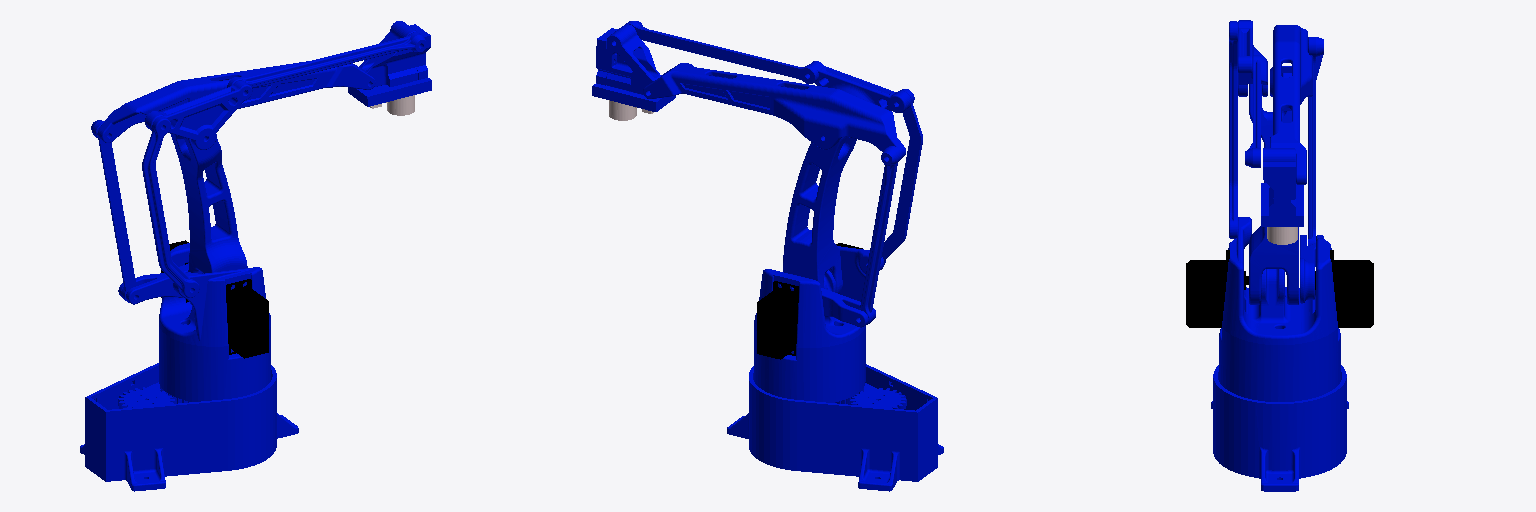
The robot description file, URDF, robot "mk2":
<?xml version="1.0" encoding="utf-8"?>
<!-- This URDF was automatically created by SolidWorks to URDF Exporter! Originally created by [author] ([email redacted]) 
     Commit Version: 1.6.0-1-g15f4949  Build Version: 1.6.7594.29634
     For more information, please see http://wiki.ros.org/sw_urdf_exporter -->
<robot
  name="mk2">
  <link
    name="footprint_link">
    <inertial>
      <origin
        xyz="-0.027264 -8.2103E-05 0.029424"
        rpy="0 0 0" />
      <mass
        value="0.20065" />
      <inertia
        ixx="0.00012071"
        ixy="-6.3675E-08"
        ixz="-9.1455E-06"
        iyy="0.00026369"
        iyz="-1.5044E-09"
        izz="0.00033032" />
    </inertial>
    <visual>
      <origin
        xyz="0 0 0"
        rpy="0 0 0" />
      <geometry>
        <mesh
          filename="package://mk2/meshes/footprint_link.STL" />
      </geometry>
      <material
        name="">
        <color
          rgba="0.0 0.1 0.9 1" />
      </material>
    </visual>
    <collision>
      <origin
        xyz="0 0 0"
        rpy="0 0 0" />
      <geometry>
        <mesh
          filename="package://mk2/meshes/footprint_link.STL" />
      </geometry>
    </collision>
  </link>
  <link
    name="base_link">
    <inertial>
      <origin
        xyz="-0.00045062 -0.00056704 0.032328"
        rpy="0 0 0" />
      <mass
        value="0.2946" />
      <inertia
        ixx="0.00026764"
        ixy="-2.8396E-06"
        ixz="7.0796E-06"
        iyy="0.00026231"
        iyz="7.6901E-06"
        izz="0.00023501" />
    </inertial>
    <visual>
      <origin
        xyz="0 0 0"
        rpy="0 0 0" />
      <geometry>
        <mesh
          filename="package://mk2/meshes/base_link.STL" />
      </geometry>
      <material
        name="">
        <color
          rgba="0.0 0.1 0.9 1" />
      </material>
    </visual>
    <collision>
      <origin
        xyz="0 0 0"
        rpy="0 0 0" />
      <geometry>
        <mesh
          filename="package://mk2/meshes/base_link.STL" />
      </geometry>
    </collision>
  </link>
  <joint
    name="base"
    type="continuous">
    <origin
      xyz="0 0 0.051"
      rpy="0 0 0" />
    <parent
      link="footprint_link" />
    <child
      link="base_link" />
    <axis
      xyz="0 0 -1" />
  </joint>
  <link
    name="L1_JT_link">
    <inertial>
      <origin
        xyz="-1.0045E-14 -0.0095522 0.003"
        rpy="0 0 0" />
      <mass
        value="0.06105" />
      <inertia
        ixx="1.5625E-05"
        ixy="9.6292E-23"
        ixz="-6.8219E-21"
        iyy="9.0259E-06"
        iyz="4.0394E-22"
        izz="1.0544E-05" />
    </inertial>
    <visual>
      <origin
        xyz="0 0 0"
        rpy="0 0 0" />
      <geometry>
        <mesh
          filename="package://mk2/meshes/L1_JT_link.STL" />
      </geometry>
      <material
        name="">
        <color
          rgba="0 0 0 1" />
      </material>
    </visual>
    <collision>
      <origin
        xyz="0 0 0"
        rpy="0 0 0" />
      <geometry>
        <mesh
          filename="package://mk2/meshes/L1_JT_link.STL" />
      </geometry>
    </collision>
  </link>
  <joint
    name="L1_JT"
    type="fixed">
    <origin
      xyz="0 0.00299999999999998 0.0732499999999999"
      rpy="1.5707963267949 0 0" />
    <parent
      link="base_link" />
    <child
      link="L1_JT_link" />
    <axis
      xyz="0 0 0" />
  </joint>
  <link
    name="L1_link">
    <inertial>
      <origin
        xyz="-0.0055614 0.057974 0.0060613"
        rpy="0 0 0" />
      <mass
        value="0.071815" />
      <inertia
        ixx="0.00015118"
        ixy="2.3184E-05"
        ixz="1.8014E-07"
        iyy="1.6103E-05"
        iyz="8.6942E-07"
        izz="0.00015336" />
    </inertial>
    <visual>
      <origin
        xyz="0 0 0"
        rpy="0 0 0" />
      <geometry>
        <mesh
          filename="package://mk2/meshes/L1_link.STL" />
      </geometry>
      <material
        name="">
        <color
          rgba="0.0 0.1 0.9 1" />
      </material>
    </visual>
    <collision>
      <origin
        xyz="0 0 0"
        rpy="0 0 0" />
      <geometry>
        <mesh
          filename="package://mk2/meshes/L1_link.STL" />
      </geometry>
    </collision>
  </link>
  <joint
    name="L1"
    type="continuous">
    <origin
      xyz="0 0 -0.00149999999999991"
      rpy="0 0 0" />
    <parent
      link="L1_JT_link" />
    <child
      link="L1_link" />
    <axis
      xyz="0 0 -1" />
  </joint>
  <link
    name="L2_JT_link">
    <inertial>
      <origin
        xyz="-0.075 0.017741 -0.0030613"
        rpy="0 0 0" />
      <mass
        value="0.071815" />
      <inertia
        ixx="1.6103E-05"
        ixy="2.3184E-05"
        ixz="-8.6942E-07"
        iyy="0.00015118"
        iyz="-1.8014E-07"
        izz="0.00015336" />
    </inertial>
    <visual>
      <origin
        xyz="0 0 0"
        rpy="0 0 0" />
      <geometry>
        <mesh
          filename="package://mk2/meshes/L2_JT_link.STL" />
      </geometry>
      <material
        name="">
        <color
          rgba="0.0 0.1 0.9 1" />
      </material>
    </visual>
    <collision>
      <origin
        xyz="0 0 0"
        rpy="0 0 0" />
      <geometry>
        <mesh
          filename="package://mk2/meshes/L2_JT_link.STL" />
      </geometry>
    </collision>
  </link>
  <joint
    name="L2_JT"
    type="fixed">
    <origin
      xyz="-0.0233024298564636 0.132973669434157 0.003"
      rpy="-3.14159265358979 0 1.5707963267949" />
    <parent
      link="L1_link" />
    <child
      link="L2_JT_link" />
    <axis
      xyz="0 0 0" />
  </joint>
  <link
    name="L2_link">
    <inertial>
      <origin
        xyz="0.012441 0.037081 0.013216"
        rpy="0 0 0" />
      <mass
        value="0.038874" />
      <inertia
        ixx="0.00013873"
        ixy="6.2071E-07"
        ixz="4.7085E-07"
        iyy="5.5345E-06"
        iyz="4.4212E-06"
        izz="0.00013901" />
    </inertial>
    <visual>
      <origin
        xyz="0 0 0"
        rpy="0 0 0" />
      <geometry>
        <mesh
          filename="package://mk2/meshes/L2_link.STL" />
      </geometry>
      <material
        name="">
        <color
          rgba="0.0 0.1 0.9 1" />
      </material>
    </visual>
    <collision>
      <origin
        xyz="0 0 0"
        rpy="0 0 0" />
      <geometry>
        <mesh
          filename="package://mk2/meshes/L2_link.STL" />
      </geometry>
    </collision>
  </link>
  <joint
    name="L2"
    type="continuous">
    <origin
      xyz="0 0 -0.00799999999999998"
      rpy="0 0 0" />
    <parent
      link="L2_JT_link" />
    <child
      link="L2_link" />
    <axis
      xyz="0 0 -1" />
  </joint>
  <link
    name="L3_JT_link">
    <inertial>
      <origin
        xyz="-0.10992 0.012441 0.0037842"
        rpy="0 0 0" />
      <mass
        value="0.038874" />
      <inertia
        ixx="5.5345E-06"
        ixy="6.2071E-07"
        ixz="-4.4212E-06"
        iyy="0.00013873"
        iyz="-4.7085E-07"
        izz="0.00013901" />
    </inertial>
    <visual>
      <origin
        xyz="0 0 0"
        rpy="0 0 0" />
      <geometry>
        <mesh
          filename="package://mk2/meshes/L3_JT_link.STL" />
      </geometry>
      <material
        name="">
        <color
          rgba="0.0 0.1 0.9 1" />
      </material>
    </visual>
    <collision>
      <origin
        xyz="0 0 0"
        rpy="0 0 0" />
      <geometry>
        <mesh
          filename="package://mk2/meshes/L3_JT_link.STL" />
      </geometry>
    </collision>
  </link>
  <joint
    name="L3_JT_joint"
    type="fixed">
    <origin
      xyz="0 0.147 0.017"
      rpy="-3.14159265358979 0 1.5707963267949" />
    <parent
      link="L2_link" />
    <child
      link="L3_JT_link" />
    <axis
      xyz="0 0 0" />
  </joint>
  <link
    name="L3_link">
    <inertial>
      <origin
        xyz="0.025333 0.0029402 -0.0030211"
        rpy="0 0 0" />
      <mass
        value="0.031957" />
      <inertia
        ixx="6.0748E-06"
        ixy="-2.7192E-06"
        ixz="-3.0049E-07"
        iyy="7.9721E-06"
        iyz="-3.9764E-07"
        izz="1.1212E-05" />
    </inertial>
    <visual>
      <origin
        xyz="0 0 0"
        rpy="0 0 0" />
      <geometry>
        <mesh
          filename="package://mk2/meshes/L3_link.STL" />
      </geometry>
      <material
        name="">
        <color
          rgba="0.0 0.1 0.9 1" />
      </material>
    </visual>
    <collision>
      <origin
        xyz="0 0 0"
        rpy="0 0 0" />
      <geometry>
        <mesh
          filename="package://mk2/meshes/L3_link.STL" />
      </geometry>
    </collision>
  </link>
  <joint
    name="L3_joint"
    type="continuous">
    <origin
      xyz="0 0 0.0119999999999995"
      rpy="0 0 0" />
    <parent
      link="L3_JT_link" />
    <child
      link="L3_link" />
    <axis
      xyz="0 0 -1" />
  </joint>
  <link
    name="L4_link">
    <inertial>
      <origin
        xyz="-0.0045763 0.0085211 0.003018"
        rpy="0 0 0" />
      <mass
        value="0.031957" />
      <inertia
        ixx="6.0748E-06"
        ixy="3.0049E-07"
        ixz="-2.7192E-06"
        iyy="1.1212E-05"
        iyz="3.9764E-07"
        izz="7.9721E-06" />
    </inertial>
    <visual>
      <origin
        xyz="0 0 0"
        rpy="0 0 0" />
      <geometry>
        <mesh
          filename="package://mk2/meshes/L4_link.STL" />
      </geometry>
      <material
        name="">
        <color
          rgba="0.0 0.1 0.9 1" />
      </material>
    </visual>
    <collision>
      <origin
        xyz="0 0 0"
        rpy="0 0 0" />
      <geometry>
        <mesh
          filename="package://mk2/meshes/L4_link.STL" />
      </geometry>
    </collision>
  </link>
  <joint
    name="L4_joint"
    type="fixed">
    <origin
      xyz="0.029908878399012 -7.78200046105404E-05 0.00550000000000002"
      rpy="-1.5707963267949 0 0" />
    <parent
      link="L3_link" />
    <child
      link="L4_link" />
    <axis
      xyz="0 0 0" />
  </joint>
  <link
    name="L5_link">
    <inertial>
      <origin
        xyz="-0.0025219 2.8506E-06 0.0094783"
        rpy="0 0 0" />
      <mass
        value="0.0058354" />
      <inertia
        ixx="2.3257E-07"
        ixy="-2.5675E-11"
        ixz="-2.6247E-09"
        iyy="3.4227E-07"
        iyz="-3.6246E-13"
        izz="4.1905E-07" />
    </inertial>
    <visual>
      <origin
        xyz="0 0 0"
        rpy="0 0 0" />
      <geometry>
        <mesh
          filename="package://mk2/meshes/L5_link.STL" />
      </geometry>
      <material
        name="">
        <color
          rgba="0.89216 0.81961 0.83333 1" />
      </material>
    </visual>
    <collision>
      <origin
        xyz="0 0 0"
        rpy="0 0 0" />
      <geometry>
        <mesh
          filename="package://mk2/meshes/L5_link.STL" />
      </geometry>
    </collision>
  </link>
  <joint
    name="L5_joint"
    type="fixed">
    <origin
      xyz="0.000430531903176545 0.00874999999999942 -0.0304969611974757"
      rpy="0 0 0" />
    <parent
      link="L4_link" />
    <child
      link="L5_link" />
    <axis
      xyz="0 0 0" />
  </joint>
  <link
    name="auxiliar_2_link">
    <inertial>
      <origin
        xyz="-0.020431 0.00055878 -0.0054372"
        rpy="0 0 0" />
      <mass
        value="0.012221" />
      <inertia
        ixx="6.3445E-07"
        ixy="1.0831E-07"
        ixz="-3.4124E-07"
        iyy="5.295E-06"
        iyz="7.3328E-09"
        izz="5.5487E-06" />
    </inertial>
    <visual>
      <origin
        xyz="0 0 0"
        rpy="0 0 0" />
      <geometry>
        <mesh
          filename="package://mk2/meshes/auxiliar_2_link.STL" />
      </geometry>
      <material
        name="">
        <color
          rgba="0.0 0.1 0.9 1" />
      </material>
    </visual>
    <collision>
      <origin
        xyz="0 0 0"
        rpy="0 0 0" />
      <geometry>
        <mesh
          filename="package://mk2/meshes/auxiliar_2_link.STL" />
      </geometry>
    </collision>
  </link>
  <joint
    name="auxiliar_2_joint"
    type="continuous">
    <origin
      xyz="0 0 -0.00995000000000003"
      rpy="0 0 0" />
    <parent
      link="L1_JT_link" />
    <child
      link="auxiliar_2_link" />
    <axis
      xyz="0 0 -1" />
  </joint>
  <link
    name="auxiliar_2_fixed_link">
    <inertial>
      <origin
        xyz="0.036569 0.00055878 -0.0054372"
        rpy="0 0 0" />
      <mass
        value="0.012221" />
      <inertia
        ixx="6.3445E-07"
        ixy="1.0831E-07"
        ixz="-3.4124E-07"
        iyy="5.295E-06"
        iyz="7.3328E-09"
        izz="5.5487E-06" />
    </inertial>
    <visual>
      <origin
        xyz="0 0 0"
        rpy="0 0 0" />
      <geometry>
        <mesh
          filename="package://mk2/meshes/auxiliar_2_fixed_link.STL" />
      </geometry>
      <material
        name="">
        <color
          rgba="0.0 0.1 0.9 1" />
      </material>
    </visual>
    <collision>
      <origin
        xyz="0 0 0"
        rpy="0 0 0" />
      <geometry>
        <mesh
          filename="package://mk2/meshes/auxiliar_2_fixed_link.STL" />
      </geometry>
    </collision>
  </link>
  <joint
    name="auxiliar_2_fixed_joint"
    type="fixed">
    <origin
      xyz="-0.0569999999999997 0 0"
      rpy="0 0 0" />
    <parent
      link="auxiliar_2_link" />
    <child
      link="auxiliar_2_fixed_link" />
    <axis
      xyz="0 0 0" />
  </joint>
  <link
    name="auxiliar_21_joint_link">
    <inertial>
      <origin
        xyz="-0.012683 0.07233 -0.0026782"
        rpy="0 0 0" />
      <mass
        value="0.0059141" />
      <inertia
        ixx="1.2937E-05"
        ixy="2.255E-06"
        ixz="-2.978E-08"
        iyy="4.6268E-07"
        iyz="1.7058E-07"
        izz="1.3347E-05" />
    </inertial>
    <visual>
      <origin
        xyz="0 0 0"
        rpy="0 0 0" />
      <geometry>
        <mesh
          filename="package://mk2/meshes/auxiliar_21_joint_link.STL" />
      </geometry>
      <material
        name="">
        <color
          rgba="0.0 0.1 0.9 1" />
      </material>
    </visual>
    <collision>
      <origin
        xyz="0 0 0"
        rpy="0 0 0" />
      <geometry>
        <mesh
          filename="package://mk2/meshes/auxiliar_21_joint_link.STL" />
      </geometry>
    </collision>
  </link>
  <joint
    name="auxiliar_21_joint"
    type="continuous">
    <origin
      xyz="0 0 -0.00550000000000005"
      rpy="0 0 0" />
    <parent
      link="auxiliar_2_fixed_link" />
    <child
      link="auxiliar_21_joint_link" />
    <axis
      xyz="0 0 1" />
  </joint>
  <link
    name="auxiliar_21_fixed_link">
    <inertial>
      <origin
        xyz="-0.080559 -0.0082703 0.049128"
        rpy="0 0 0" />
      <mass
        value="0.0059141" />
      <inertia
        ixx="4.6268E-07"
        ixy="2.255E-06"
        ixz="-1.7058E-07"
        iyy="1.2937E-05"
        iyz="2.978E-08"
        izz="1.3347E-05" />
    </inertial>
    <visual>
      <origin
        xyz="0 0 0"
        rpy="0 0 0" />
      <geometry>
        <mesh
          filename="package://mk2/meshes/auxiliar_21_fixed_link.STL" />
      </geometry>
      <material
        name="">
        <color
          rgba="0.0 0.1 0.9 1" />
      </material>
    </visual>
    <collision>
      <origin
        xyz="0 0 0"
        rpy="0 0 0" />
      <geometry>
        <mesh
          filename="package://mk2/meshes/auxiliar_21_fixed_link.STL" />
      </geometry>
    </collision>
  </link>
  <joint
    name="auxiliar_21_fixed_joint"
    type="fixed">
    <origin
      xyz="-0.004412503985045 0.152889046656648 0.0464499999999999"
      rpy="-3.14159265358979 0 1.5707963267949" />
    <parent
      link="auxiliar_21_joint_link" />
    <child
      link="auxiliar_21_fixed_link" />
    <axis
      xyz="0 0 0" />
  </joint>
  <link
    name="base_auxiliar_link">
    <inertial>
      <origin
        xyz="0.037519 -0.060862 -0.027433"
        rpy="0 0 0" />
      <mass
        value="0.2946" />
      <inertia
        ixx="0.00026764"
        ixy="7.0796E-06"
        ixz="2.8396E-06"
        iyy="0.00023501"
        iyz="-7.6901E-06"
        izz="0.00026231" />
    </inertial>
    <visual>
      <origin
        xyz="0 0 0"
        rpy="0 0 0" />
      <geometry>
        <mesh
          filename="package://mk2/meshes/base_auxiliar_link.STL" />
      </geometry>
      <material
        name="">
        <color
          rgba="0.0 0.1 0.9 1" />
      </material>
    </visual>
    <collision>
      <origin
        xyz="0 0 0"
        rpy="0 0 0" />
      <geometry>
        <mesh
          filename="package://mk2/meshes/base_auxiliar_link.STL" />
      </geometry>
    </collision>
  </link>
  <joint
    name="base_auxiliar_joint"
    type="fixed">
    <origin
      xyz="-0.03797 -0.028 0.09319"
      rpy="1.5707963267949 0 0" />
    <parent
      link="base_link" />
    <child
      link="base_auxiliar_link" />
    <axis
      xyz="0 0 0" />
  </joint>
  <link
    name="auxiliar_link">
    <inertial>
      <origin
        xyz="-0.021626 0.064728 -0.0033124"
        rpy="0 0 0" />
      <mass
        value="0.0061643" />
      <inertia
        ixx="1.2331E-05"
        ixy="2.1233E-06"
        ixz="-9.5672E-09"
        iyy="6.6378E-07"
        iyz="-1.6869E-09"
        izz="1.297E-05" />
    </inertial>
    <visual>
      <origin
        xyz="0 0 0"
        rpy="0 0 0" />
      <geometry>
        <mesh
          filename="package://mk2/meshes/auxiliar_link.STL" />
      </geometry>
      <material
        name="">
        <color
          rgba="0.0 0.1 0.9 1" />
      </material>
    </visual>
    <collision>
      <origin
        xyz="0 0 0"
        rpy="0 0 0" />
      <geometry>
        <mesh
          filename="package://mk2/meshes/auxiliar_link.STL" />
      </geometry>
    </collision>
  </link>
  <joint
    name="auxiliar_joint"
    type="continuous">
    <origin
      xyz="0 0 0.00549999999999998"
      rpy="0 0 0" />
    <parent
      link="base_auxiliar_link" />
    <child
      link="auxiliar_link" />
    <axis
      xyz="0 0 1" />
  </joint>
  <link
    name="auxiliar_up_Link">
    <inertial>
      <origin
        xyz="-0.068221 0.0018168 0.0033124"
        rpy="0 0 0" />
      <mass
        value="0.0061643" />
      <inertia
        ixx="6.6378E-07"
        ixy="2.1233E-06"
        ixz="1.6869E-09"
        iyy="1.2331E-05"
        iyz="9.5672E-09"
        izz="1.297E-05" />
    </inertial>
    <visual>
      <origin
        xyz="0 0 0"
        rpy="0 0 0" />
      <geometry>
        <mesh
          filename="package://mk2/meshes/auxiliar_up_Link.STL" />
      </geometry>
      <material
        name="">
        <color
          rgba="0.0 0.1 0.9 1" />
      </material>
    </visual>
    <collision>
      <origin
        xyz="0 0 0"
        rpy="0 0 0" />
      <geometry>
        <mesh
          filename="package://mk2/meshes/auxiliar_up_Link.STL" />
      </geometry>
    </collision>
  </link>
  <joint
    name="auxiliar_up_joint"
    type="fixed">
    <origin
      xyz="-0.0234425039850326 0.132949046656649 0"
      rpy="-3.14159265358979 0 1.5707963267949" />
    <parent
      link="auxiliar_link" />
    <child
      link="auxiliar_up_Link" />
    <axis
      xyz="0 -1 0" />
  </joint>
  <link
    name="auxiliar_elbow_Link">
    <inertial>
      <origin
        xyz="-0.005207 0.035772 0.013002"
        rpy="0 0 0" />
      <mass
        value="0.018737" />
      <inertia
        ixx="6.5075E-06"
        ixy="-4.326E-07"
        ixz="2.3413E-07"
        iyy="1.9605E-06"
        iyz="-5.5505E-08"
        izz="7.4895E-06" />
    </inertial>
    <visual>
      <origin
        xyz="0 0 0"
        rpy="0 0 0" />
      <geometry>
        <mesh
          filename="package://mk2/meshes/auxiliar_elbow_Link.STL" />
      </geometry>
      <material
        name="">
        <color
          rgba="0.0 0.1 0.9 1" />
      </material>
    </visual>
    <collision>
      <origin
        xyz="0 0 0"
        rpy="0 0 0" />
      <geometry>
        <mesh
          filename="package://mk2/meshes/auxiliar_elbow_Link.STL" />
      </geometry>
    </collision>
  </link>
  <joint
    name="auxiliar_elbow"
    type="continuous">
    <origin
      xyz="0 0 0"
      rpy="0 0 0" />
    <parent
      link="auxiliar_up_Link" />
    <child
      link="auxiliar_elbow_Link" />
    <axis
      xyz="0 0 -1" />
  </joint>
  <link
    name="elbow_auxiliar_L4_fixed_link">
    <inertial>
      <origin
        xyz="-0.013567 -0.034734 0.0075018"
        rpy="0 0 0" />
      <mass
        value="0.018737" />
      <inertia
        ixx="6.5075E-06"
        ixy="-4.326E-07"
        ixz="2.3413E-07"
        iyy="1.9605E-06"
        iyz="-5.5505E-08"
        izz="7.4895E-06" />
    </inertial>
    <visual>
      <origin
        xyz="0 0 0"
        rpy="0 0 0" />
      <geometry>
        <mesh
          filename="package://mk2/meshes/elbow_auxiliar_L4_fixed_link.STL" />
      </geometry>
      <material
        name="">
        <color
          rgba="0.0 0.1 0.9 1" />
      </material>
    </visual>
    <collision>
      <origin
        xyz="0 0 0"
        rpy="0 0 0" />
      <geometry>
        <mesh
          filename="package://mk2/meshes/elbow_auxiliar_L4_fixed_link.STL" />
      </geometry>
    </collision>
  </link>
  <joint
    name="elbow_auxiliar_L4_fixed_joint"
    type="fixed">
    <origin
      xyz="0.008360008797482 0.0705061008204682 0.00550000000000003"
      rpy="0 0 0" />
    <parent
      link="auxiliar_elbow_Link" />
    <child
      link="elbow_auxiliar_L4_fixed_link" />
    <axis
      xyz="0 0 -1" />
  </joint>
  <link
    name="elbow_auxiliar_L4_link">
    <inertial>
      <origin
        xyz="0.00037084 0.079608 0.0028609"
        rpy="0 0 0" />
      <mass
        value="0.0063025" />
      <inertia
        ixx="1.6531E-05"
        ixy="-7.6682E-08"
        ixz="8.8519E-10"
        iyy="7.0763E-08"
        iyz="1.9002E-07"
        izz="1.6548E-05" />
    </inertial>
    <visual>
      <origin
        xyz="0 0 0"
        rpy="0 0 0" />
      <geometry>
        <mesh
          filename="package://mk2/meshes/elbow_auxiliar_L4_link.STL" />
      </geometry>
      <material
        name="">
        <color
          rgba="0.0 0.1 0.9 1" />
      </material>
    </visual>
    <collision>
      <origin
        xyz="0 0 0"
        rpy="0 0 0" />
      <geometry>
        <mesh
          filename="package://mk2/meshes/elbow_auxiliar_L4_link.STL" />
      </geometry>
    </collision>
  </link>
  <joint
    name="elbow_auxiliar_L4_joint"
    type="continuous">
    <origin
      xyz="0 0 0.00999999999999997"
      rpy="0 0 0" />
    <parent
      link="elbow_auxiliar_L4_fixed_link" />
    <child
      link="elbow_auxiliar_L4_link" />
    <axis
      xyz="0 0 -1" />
  </joint>
</robot>

--- Facts derived from the render (not from the file) ---
3 views of the same robot in one strip: view 1: azimuth 30°, elevation 25°; view 2: azimuth 150°, elevation 25°; view 3: azimuth 270°, elevation 25° (orthographic).
Model mk2 with 20 links and 19 joints (9 continuous, 10 fixed), rooted at footprint_link, posed all joints at 0.
Links seen in each view (by area): view 1: footprint_link, base_link, L1_link, L2_link, L1_JT_link, auxiliar_elbow_Link, elbow_auxiliar_L4_link, auxiliar_link, L3_link, base_auxiliar_link, auxiliar_21_joint_link, L4_link (+2 smaller); view 2: footprint_link, L2_link, base_link, L1_link, L3_link, L1_JT_link, elbow_auxiliar_L4_link, auxiliar_link, auxiliar_21_joint_link, base_auxiliar_link, auxiliar_elbow_Link, auxiliar_2_link (+3 smaller); view 3: footprint_link, base_link, L1_JT_link, base_auxiliar_link, L2_link, L3_link, L1_link, auxiliar_link, auxiliar_21_joint_link, elbow_auxiliar_L4_link, auxiliar_2_link, auxiliar_elbow_Link (+4 smaller).
Boxes of the visible links, x1,y1,x2,y2 form: footprint_link: (80, 363, 298, 491); base_link: (159, 243, 270, 401); L1_link: (170, 133, 247, 273); L2_link: (97, 61, 375, 142); L1_JT_link: (161, 240, 268, 358); auxiliar_elbow_Link: (145, 81, 251, 149); elbow_auxiliar_L4_link: (227, 32, 426, 87); auxiliar_link: (142, 117, 199, 297); L3_link: (348, 21, 431, 106); base_auxiliar_link: (159, 244, 270, 398); auxiliar_21_joint_link: (91, 120, 135, 302); L4_link: (358, 21, 430, 95); footprint_link: (727, 364, 943, 491); L2_link: (643, 63, 905, 158); base_link: (754, 246, 883, 402); L1_link: (783, 137, 856, 291); L3_link: (592, 24, 675, 111); L1_JT_link: (757, 243, 862, 359); elbow_auxiliar_L4_link: (625, 21, 818, 83); auxiliar_link: (882, 89, 922, 264); auxiliar_21_joint_link: (859, 146, 900, 324); base_auxiliar_link: (755, 246, 883, 402); auxiliar_elbow_Link: (810, 61, 910, 112); auxiliar_2_link: (821, 288, 875, 327); footprint_link: (1211, 365, 1348, 491); base_link: (1219, 217, 1340, 401); L1_JT_link: (1186, 250, 1373, 327); base_auxiliar_link: (1219, 227, 1339, 401); L2_link: (1270, 25, 1312, 184); L3_link: (1261, 149, 1303, 226); L1_link: (1249, 73, 1298, 304); auxiliar_link: (1229, 21, 1237, 238); auxiliar_21_joint_link: (1308, 37, 1323, 245); elbow_auxiliar_L4_link: (1245, 55, 1260, 167); auxiliar_2_link: (1300, 235, 1323, 303); auxiliar_elbow_Link: (1238, 20, 1267, 95).
Size in the robot's own frame: 0.2692 by 0.124 by 0.2927 metres.
20 mesh visuals loaded from 20 distinct referenced files (20 binary STL).